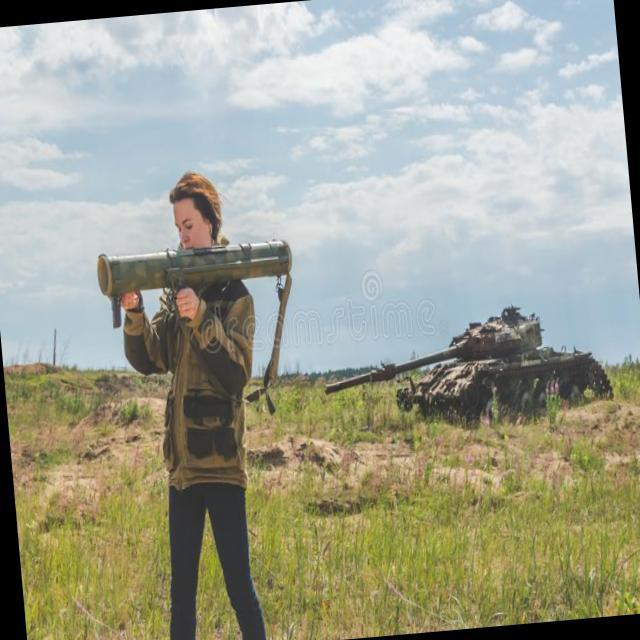rocket: (84, 230, 298, 316)
